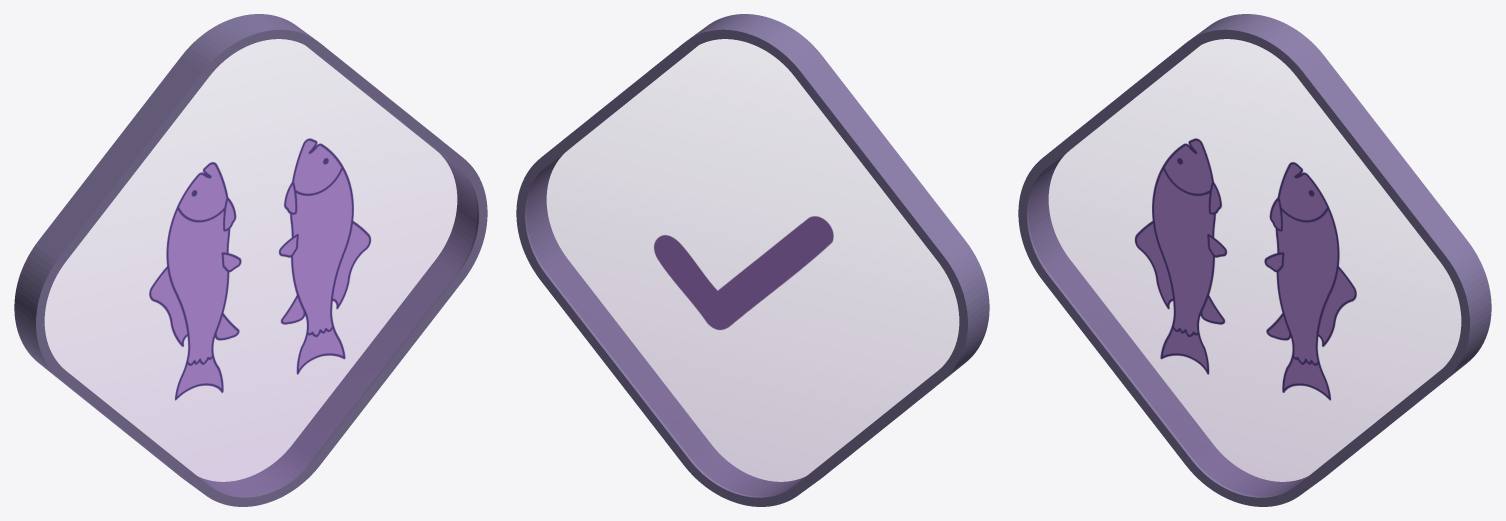
Rendered from votePandi.glb.
The picture shows the model from 3 angles, left to right: view 1: azimuth 30°, elevation 25°; view 2: azimuth 150°, elevation 25°; view 3: azimuth 330°, elevation 25°; orthographic projection.
Parts seen in each view (by area): view 1: Curve.003, Curve.002; view 2: Curve.003, Curve.002; view 3: Curve.003, Curve.002.
Part boxes in pixels (x1,y1,x2,y2): Curve.003: (45,120,476,496); Curve.002: (14,14,487,506); Curve.003: (527,120,958,496); Curve.002: (516,14,989,506); Curve.003: (1029,120,1460,496); Curve.002: (1018,14,1491,506).
Size of the model in its own units: 2.3 by 2.3 by 0.1909.
Materials: 3 (2 with a texture image).
